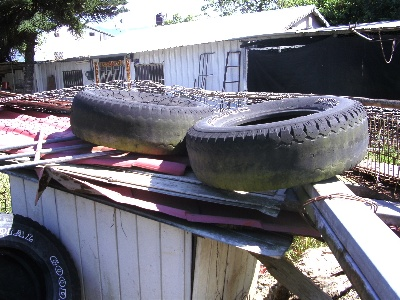tire: (181, 93, 376, 191), (70, 79, 215, 157)
